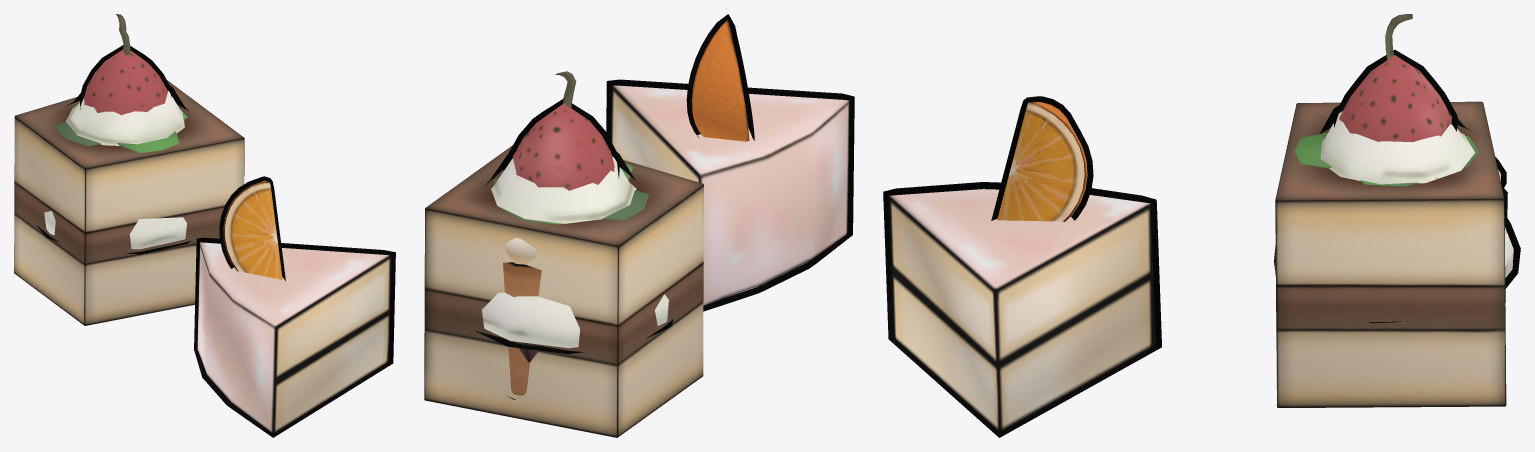
Rendered from Pastelito3.glb.
3 views of the same model, side by side, from view 1: azimuth 30°, elevation 25°; view 2: azimuth 150°, elevation 25°; view 3: azimuth 270°, elevation 25° (orthographic). The views are drawn at different scales.
Visible parts, largest first — view 1: Cake_strawberry_Cake_strawberry_0, Cake_orange_Outline_0, Cupcake_Outline_0; view 2: Cake_strawberry_Cake_strawberry_0, Cake_orange_Outline_0, Cupcake_Outline_0, Souffle.001_Souffle_0; view 3: Cake_strawberry_Cake_strawberry_0, Cake_orange_Outline_0, Cupcake_Outline_0.
Part boxes in pixels (x1,y1,x2,y2): Cake_strawberry_Cake_strawberry_0: (14, 45, 244, 325); Cake_orange_Outline_0: (194, 176, 395, 437); Cupcake_Outline_0: (36, 14, 190, 254); Cake_strawberry_Cake_strawberry_0: (424, 98, 703, 437); Cake_orange_Outline_0: (606, 14, 854, 311); Cupcake_Outline_0: (474, 71, 673, 362); Souffle.001_Souffle_0: (503, 238, 541, 399); Cake_strawberry_Cake_strawberry_0: (1275, 50, 1506, 407); Cake_orange_Outline_0: (883, 96, 1161, 437); Cupcake_Outline_0: (1274, 14, 1520, 323).
Bounding box in the file's own units: 2.58 × 3.31 × 5.35.
5 materials, 4 textured.
